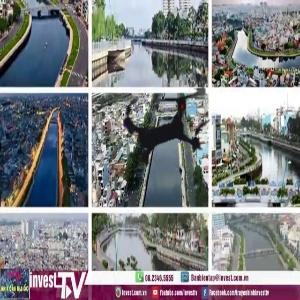drone: (87, 48, 243, 204)
